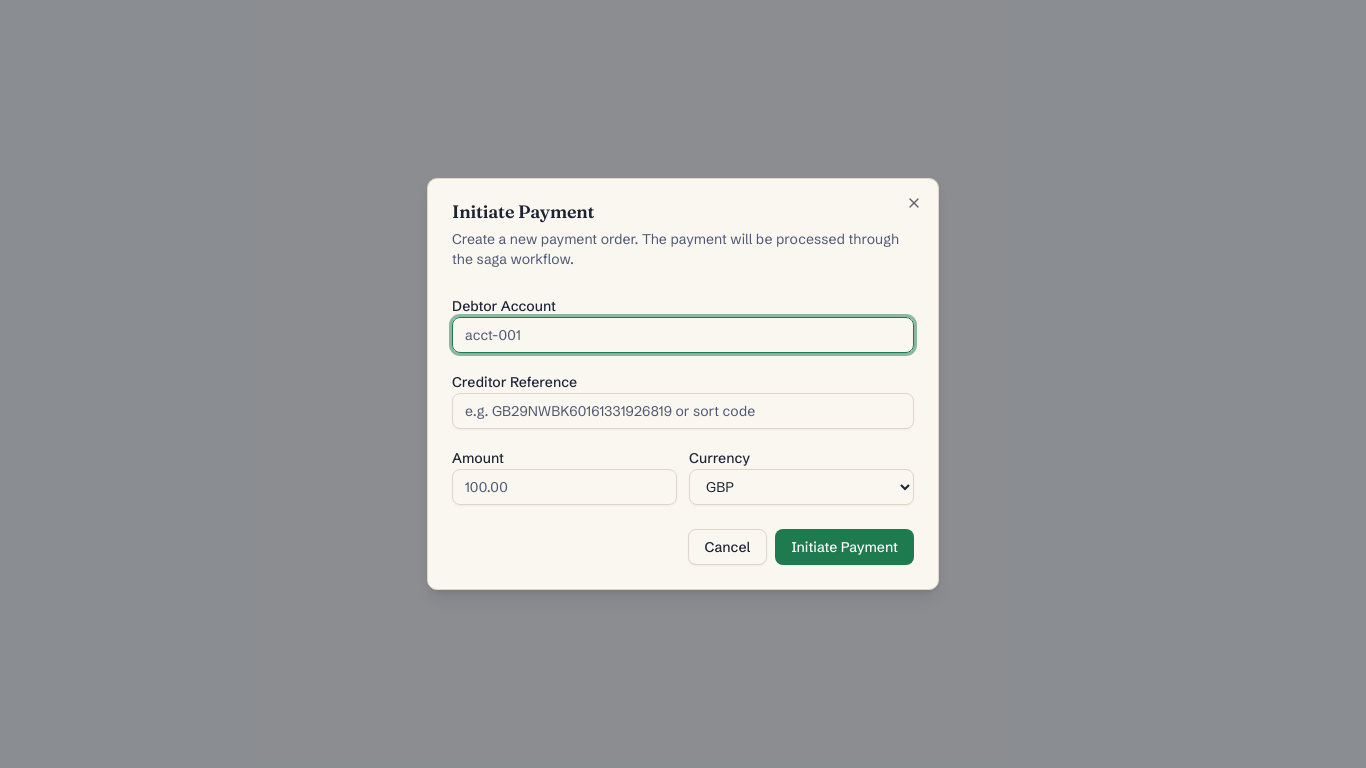
Test: InitiatePaymentDialog - creditor reference validation › shows validation error for empty creditor reference on submit
Click the button "Initiate Payment" at (845, 547), box [775,529,914,565]
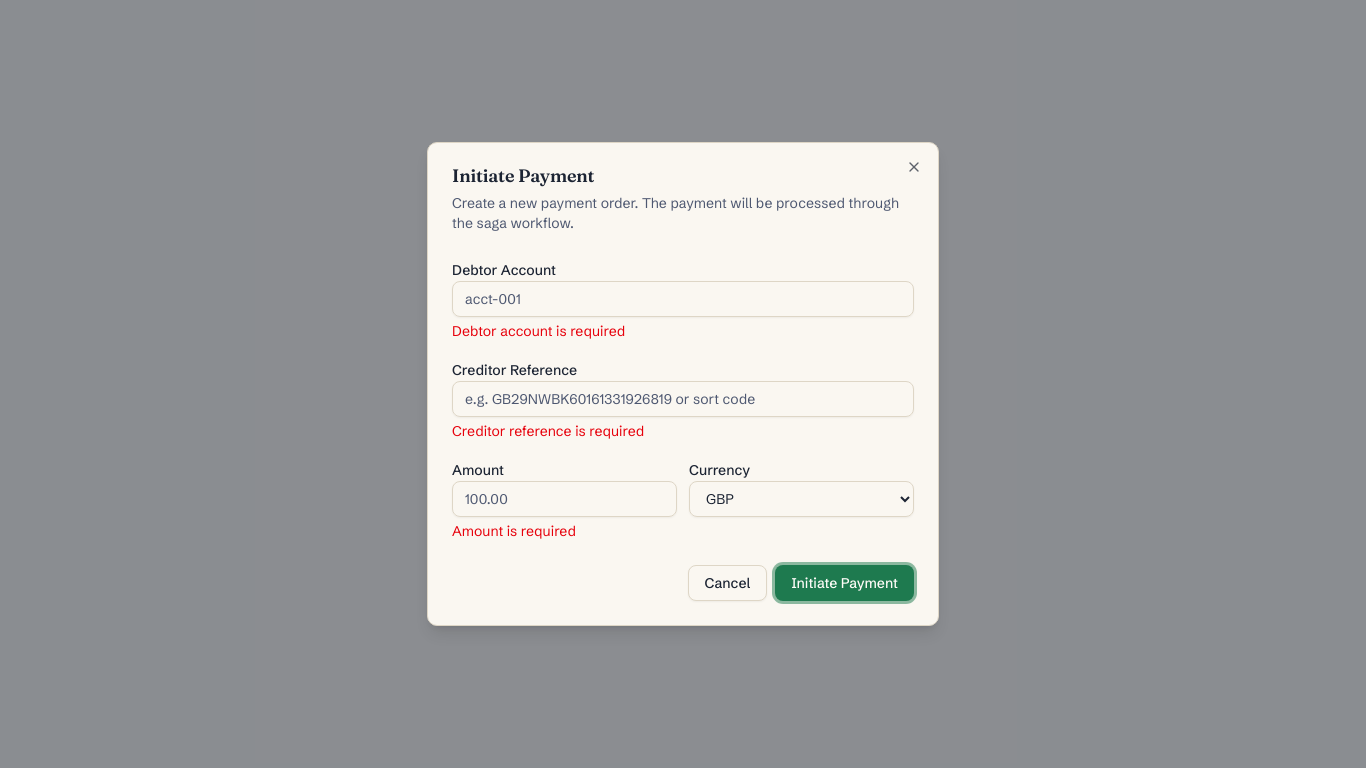
Expected: the text "Creditor reference is required" is shown, [452,422,644,440]
